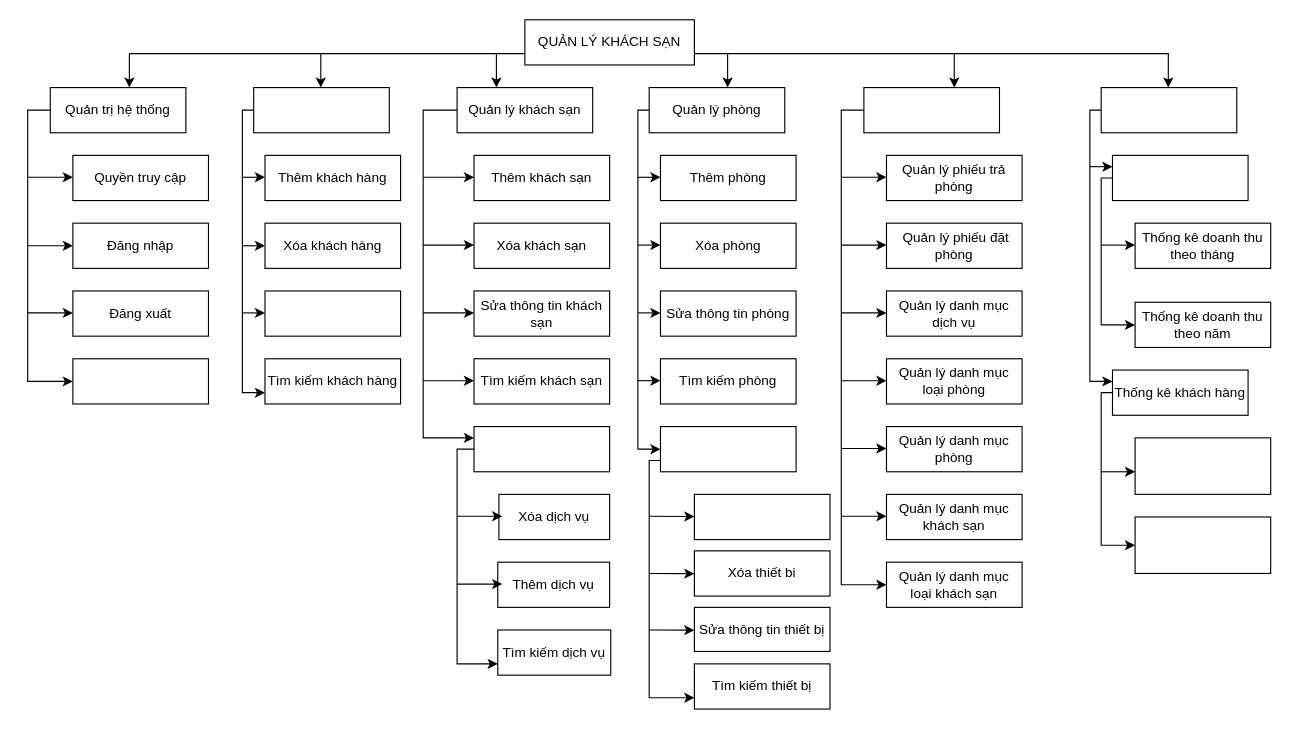
Some shapes in this 1290 by 729 pixel diagram are drawn without their labels. Here are the shapes that lost their labels. From the top down, the centre of each, then its label:
At (321,109): "Quản lý khách hàng".
At (931,109): "Quản lý danh mục".
At (1168,109): "Báo cáo thống kê".
At (1179,177): "Quản lý phiếu thống kê doanh thu".
At (332,313): "Sửa thông tin khách hàng".
At (140,381): "Sao lưu, phục hồi dữ liệu".
At (541,448): "Quản lý dịch vụ".
At (727,448): "Quản lý thiết bị".
At (1202,465): "Thống kê số lượng khách hàng theo tháng".
At (761,516): "Thêm thiết bị".
At (1202,544): "Thống kê số lượng khách hàng theo năm".
